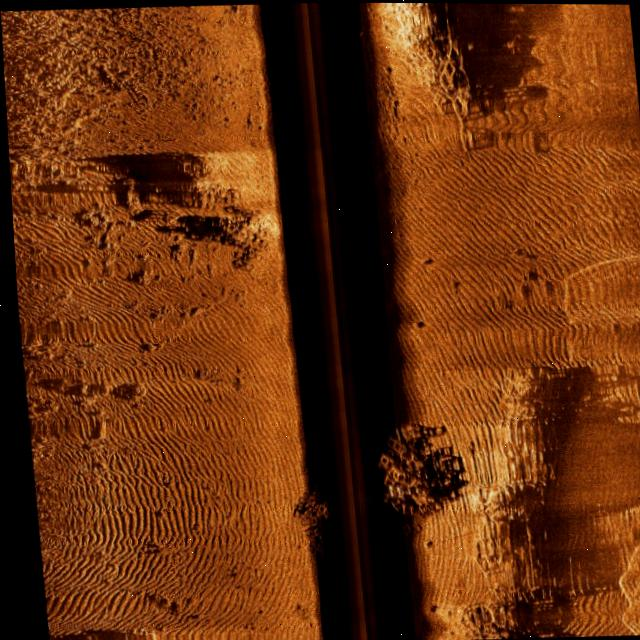artificial reef: (389, 2, 479, 140), (368, 409, 449, 523), (284, 490, 325, 560)
